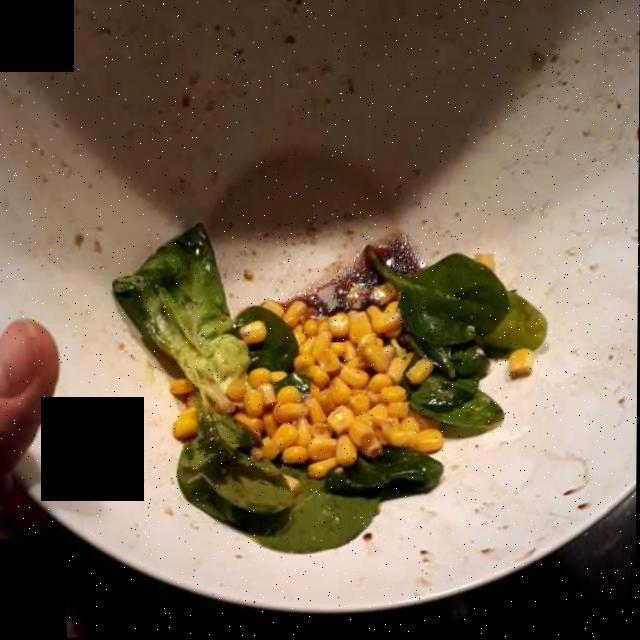corn: (173, 295, 460, 483)
salad: (137, 215, 540, 544)
